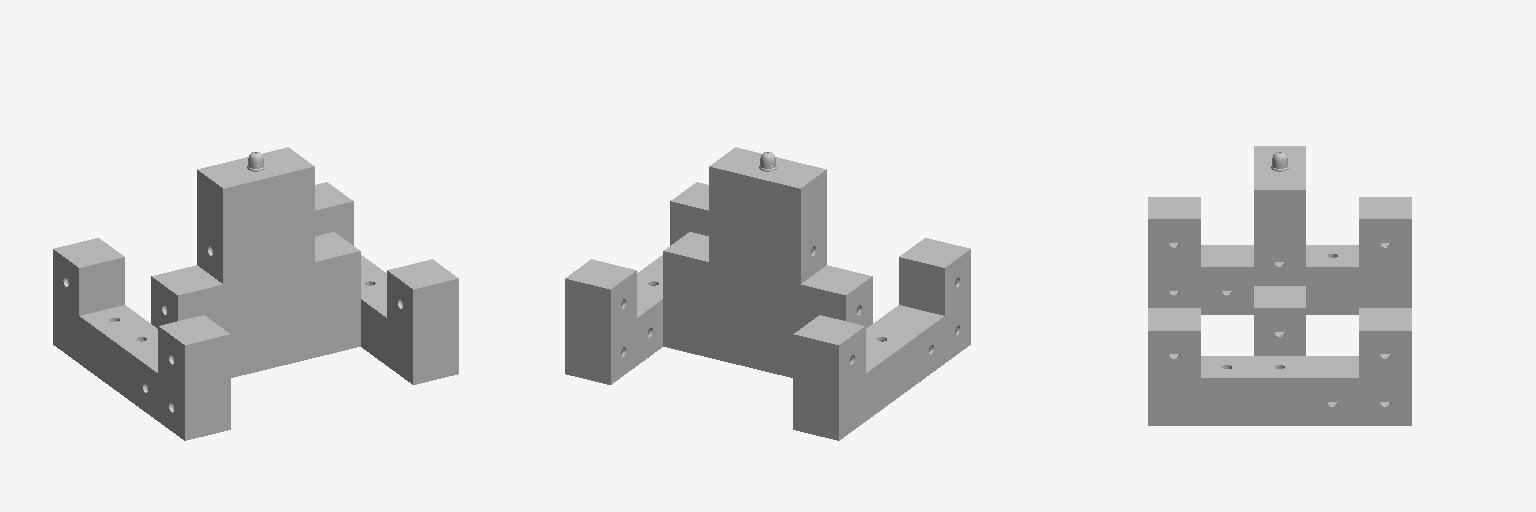
File: KUBO 2 isi.obj
3 renders of one model, left to right at view 1: azimuth 30°, elevation 25°; view 2: azimuth 150°, elevation 25°; view 3: azimuth 270°, elevation 25°, orthographic.
Bounding box in the file's own units: 180 × 130 × 150.